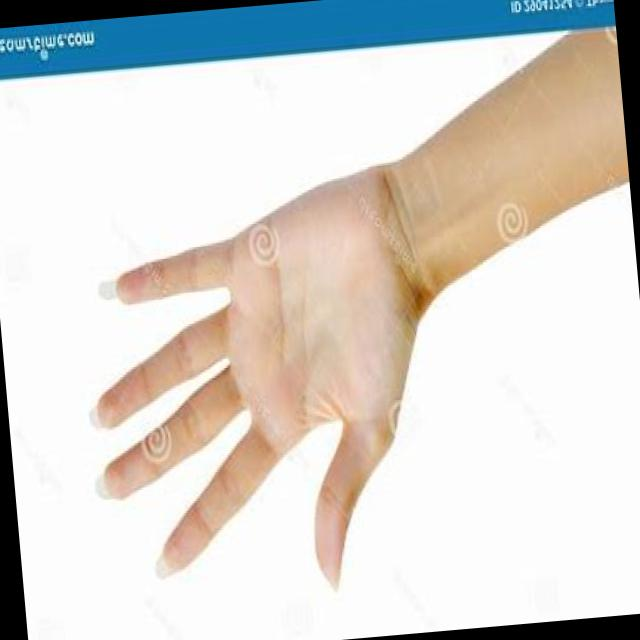not-gloved: (86, 184, 449, 621)
